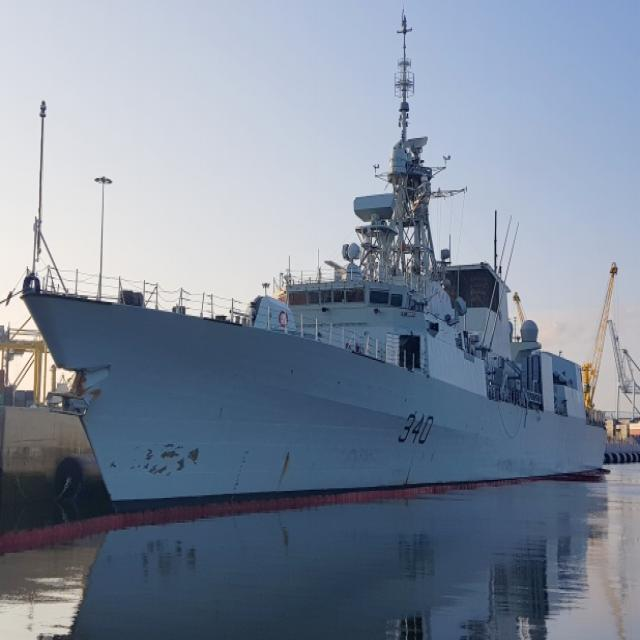Fragata: (18, 1, 614, 517)
